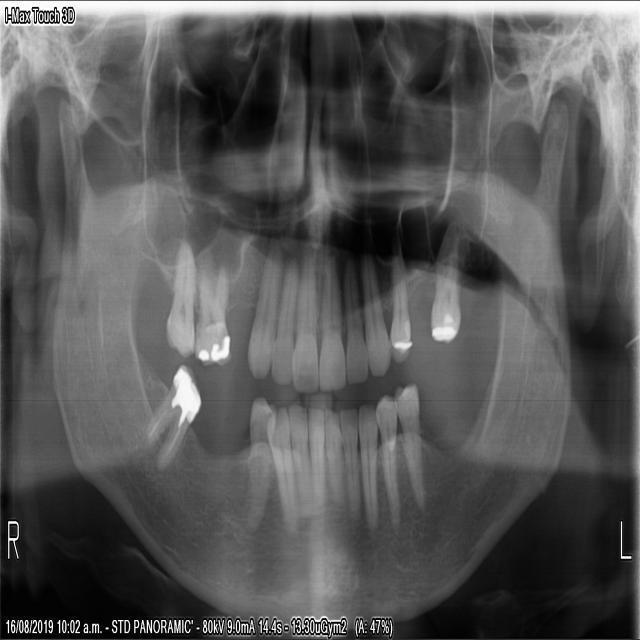LCD: (341, 405, 361, 522)
LCU: (361, 244, 392, 379)
LID: (324, 402, 346, 512), (308, 402, 326, 515)
LIU: (318, 253, 347, 392), (345, 247, 370, 387)
LMD: (392, 375, 424, 510)
LMU: (427, 232, 463, 345)
LPMD: (374, 393, 399, 529), (356, 403, 381, 530)
LPMU: (388, 249, 410, 362)
RCD: (242, 394, 275, 537)
RCU: (246, 243, 284, 387)
RID: (265, 399, 299, 540), (287, 400, 314, 523)
RIU: (269, 252, 299, 387), (293, 244, 318, 394)
RMD: (142, 360, 203, 469)
RMU: (195, 249, 234, 375), (161, 240, 198, 359)
